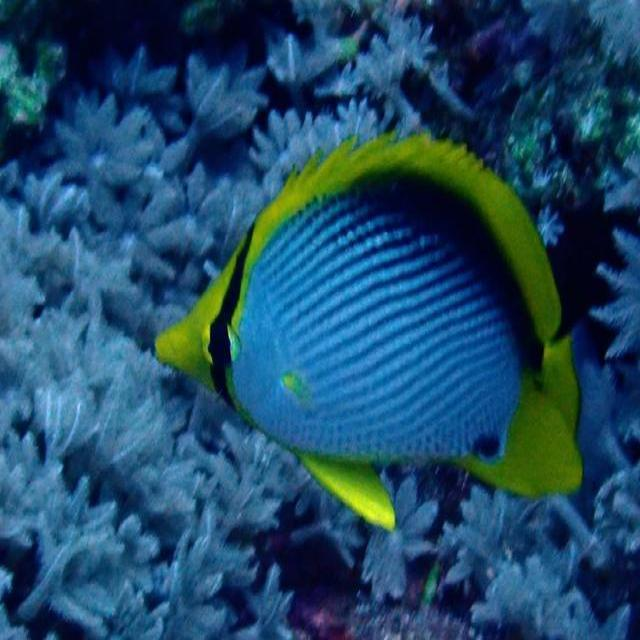ButterflyFish: (153, 124, 581, 530)
